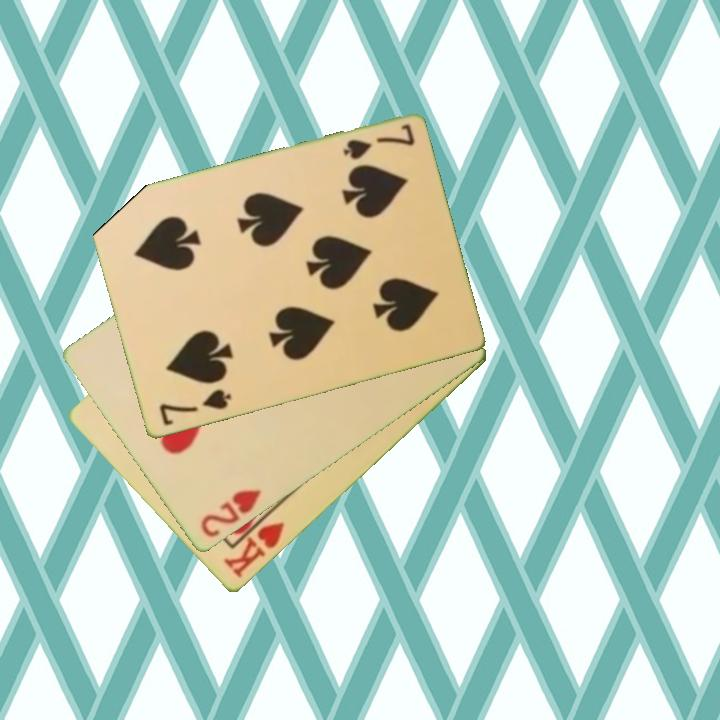2h: (197, 486, 265, 542)
7s: (155, 386, 234, 429), (339, 120, 418, 163)
Kh: (220, 506, 288, 582)
